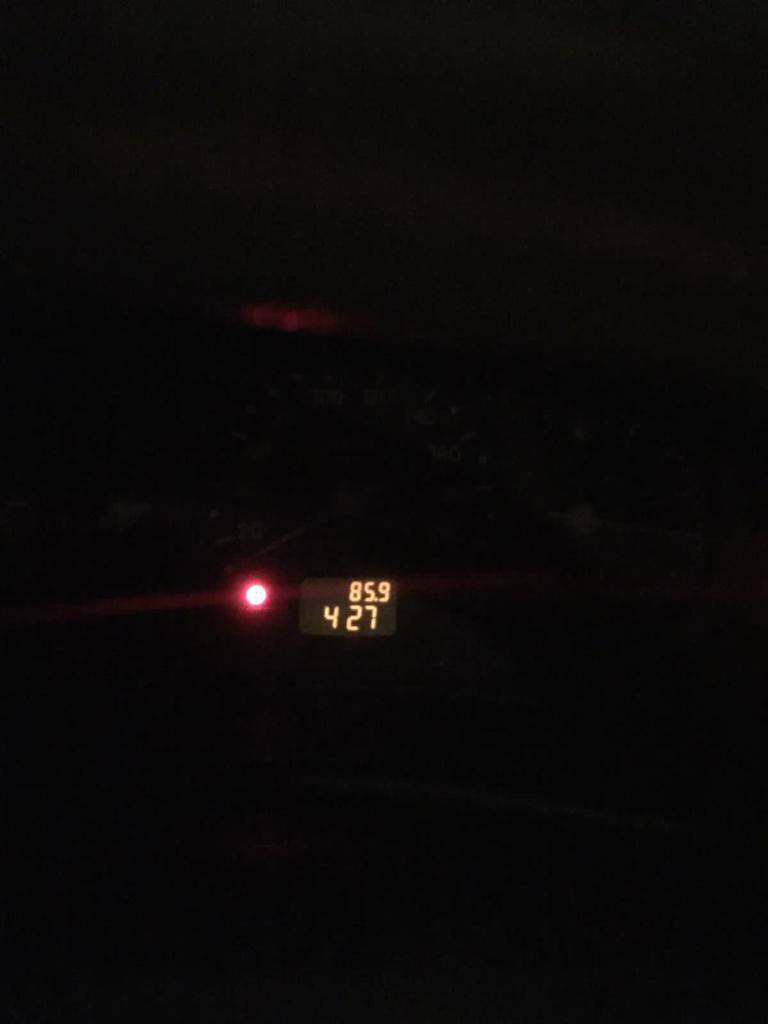,: (373, 596, 378, 602)
2: (345, 604, 363, 631)
4: (323, 605, 339, 629)
5: (363, 581, 376, 602)
7: (363, 604, 377, 630)
8: (348, 580, 362, 602)
9: (377, 580, 391, 602)
odometer: (296, 574, 401, 640)
